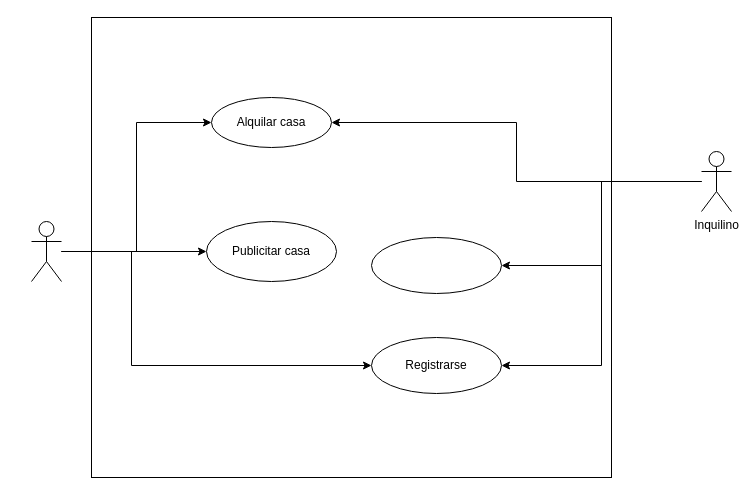
Some shapes in this 756 by 503 pixel diagram are drawn without their labels. The box of each missing label's shape, as (x1, y1, x2, y2) in pixels:
Buscar casa: (370, 236, 502, 294)
Propietario: (30, 220, 62, 282)
